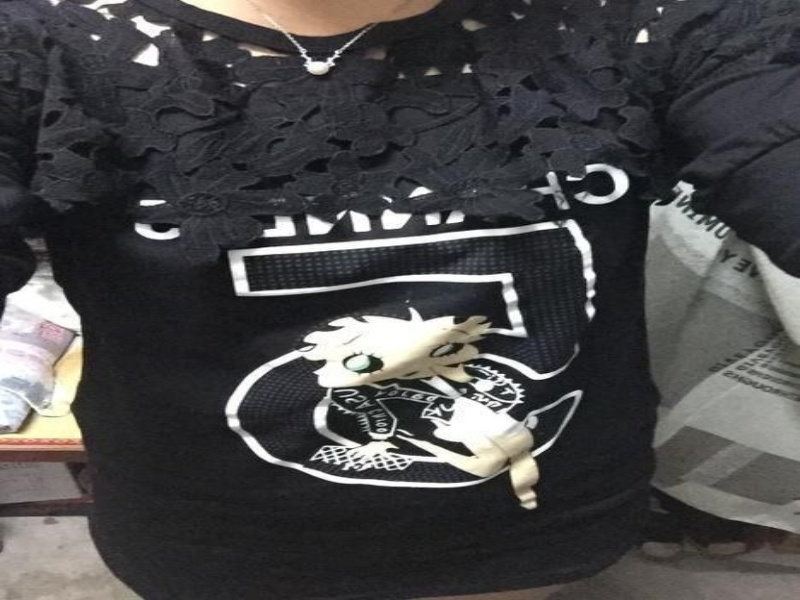short_sleeved_dress: (0, 0, 798, 599)
